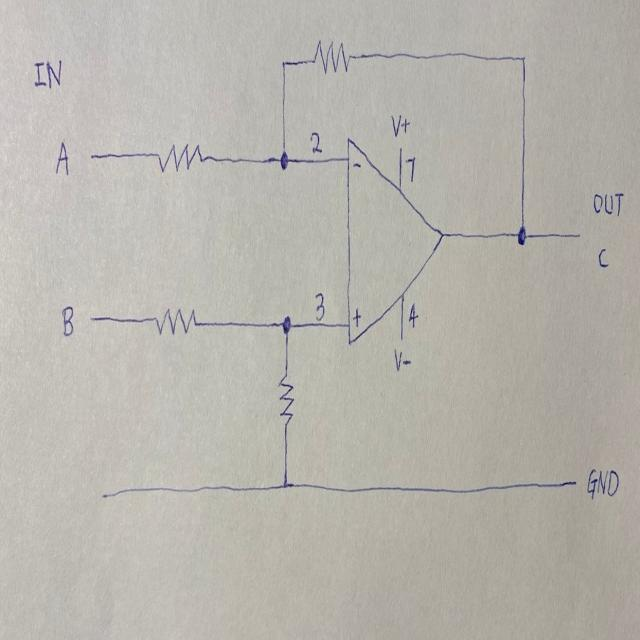junction: (510, 217, 534, 253), (274, 468, 298, 502), (275, 142, 296, 177), (277, 307, 296, 345), (514, 44, 533, 72), (275, 50, 291, 78)
resistor: (148, 137, 210, 178), (306, 32, 357, 78), (147, 302, 200, 345), (275, 367, 299, 434)
terminal: (95, 482, 122, 507), (84, 306, 112, 330), (563, 225, 590, 245), (84, 146, 107, 164), (563, 472, 583, 492)
text: (586, 462, 620, 503), (32, 52, 63, 94), (592, 186, 625, 221), (386, 106, 411, 141), (58, 302, 77, 340), (55, 137, 70, 183), (310, 286, 328, 322), (392, 344, 413, 374), (308, 126, 326, 156), (404, 154, 420, 186), (406, 300, 422, 328), (595, 244, 610, 271), (350, 303, 364, 330), (351, 157, 363, 177)
